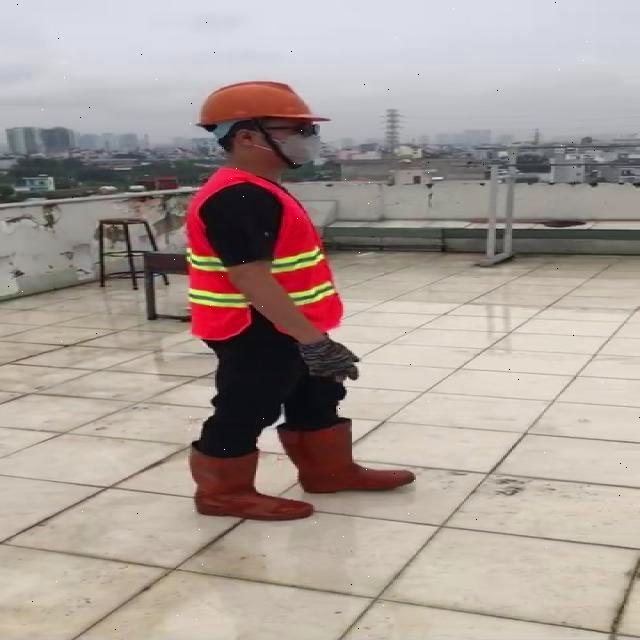Hard_hat: (192, 77, 340, 138)
Vest: (186, 168, 342, 339)
